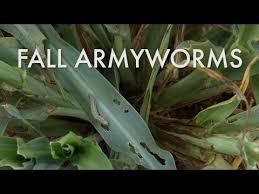fallarmy_worm: (85, 91, 109, 131)
